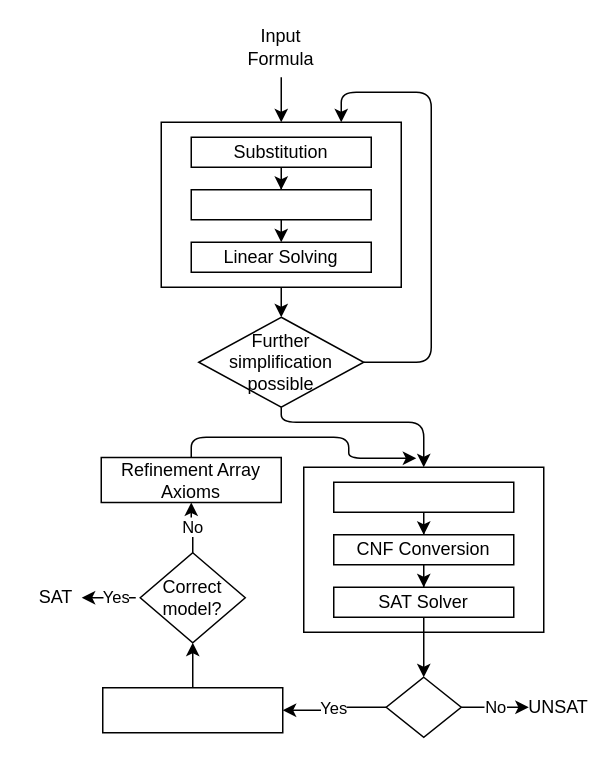
This 614x764 diagram has some shape labels left out. Here are the shapes that lost their labels. From the top down, the box of each, then its label:
(190, 188, 371, 220): Simplification
(332, 481, 514, 512): BitBlast
(101, 686, 283, 733): Convert to concrete model
(385, 676, 461, 737): SAT?
